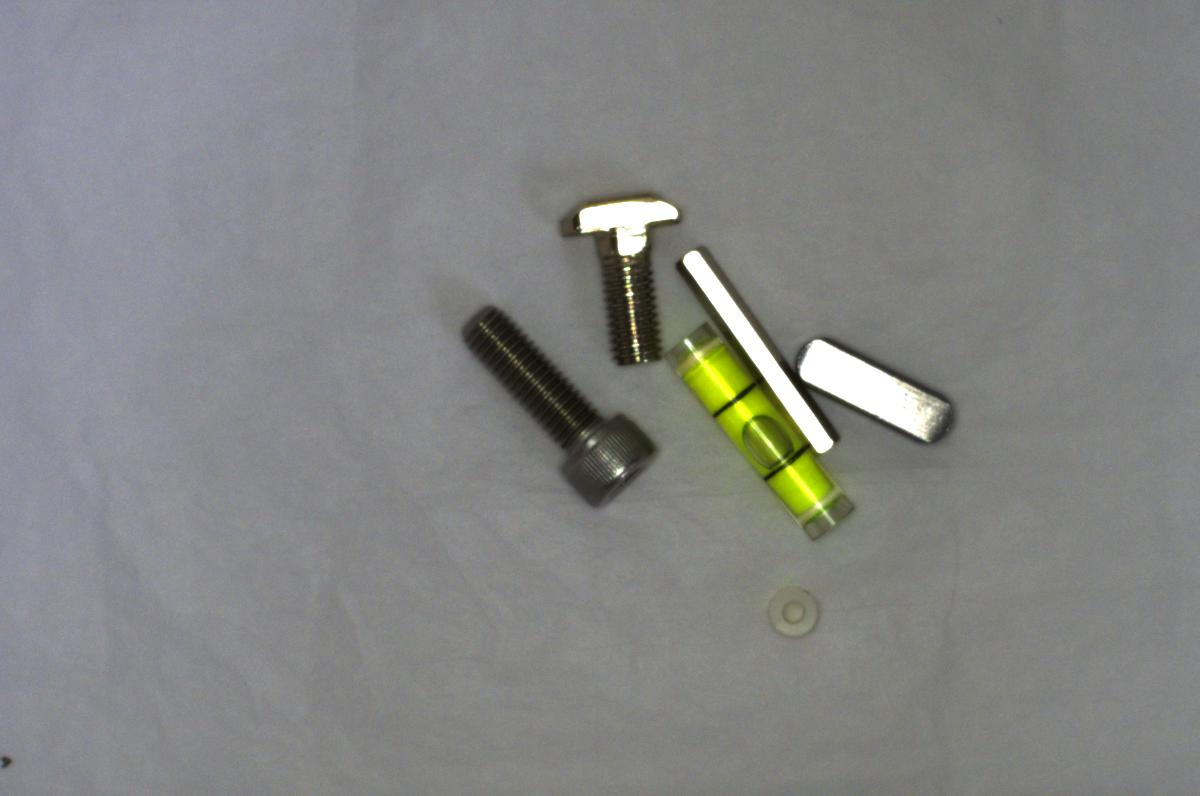Double hexagonal column: (661, 236, 846, 459)
Hexagon screw: (450, 305, 667, 512)
Horizontal bubble: (664, 316, 845, 542)
Keybar: (787, 333, 968, 456)
Plastic cushion pillar: (761, 581, 822, 641)
T-shaped screw: (554, 188, 682, 369)
